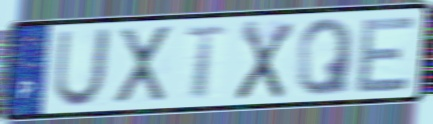E: (353, 13, 419, 96)
Q: (294, 16, 357, 99)
T: (182, 24, 231, 101)
U: (50, 26, 114, 109)
X: (232, 19, 296, 102), (113, 23, 173, 107)
